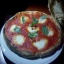basil: (14, 24, 21, 35), (43, 25, 49, 36), (28, 32, 39, 38), (30, 17, 38, 25), (20, 16, 26, 25), (39, 15, 49, 20)
pizza: (5, 9, 61, 55)
